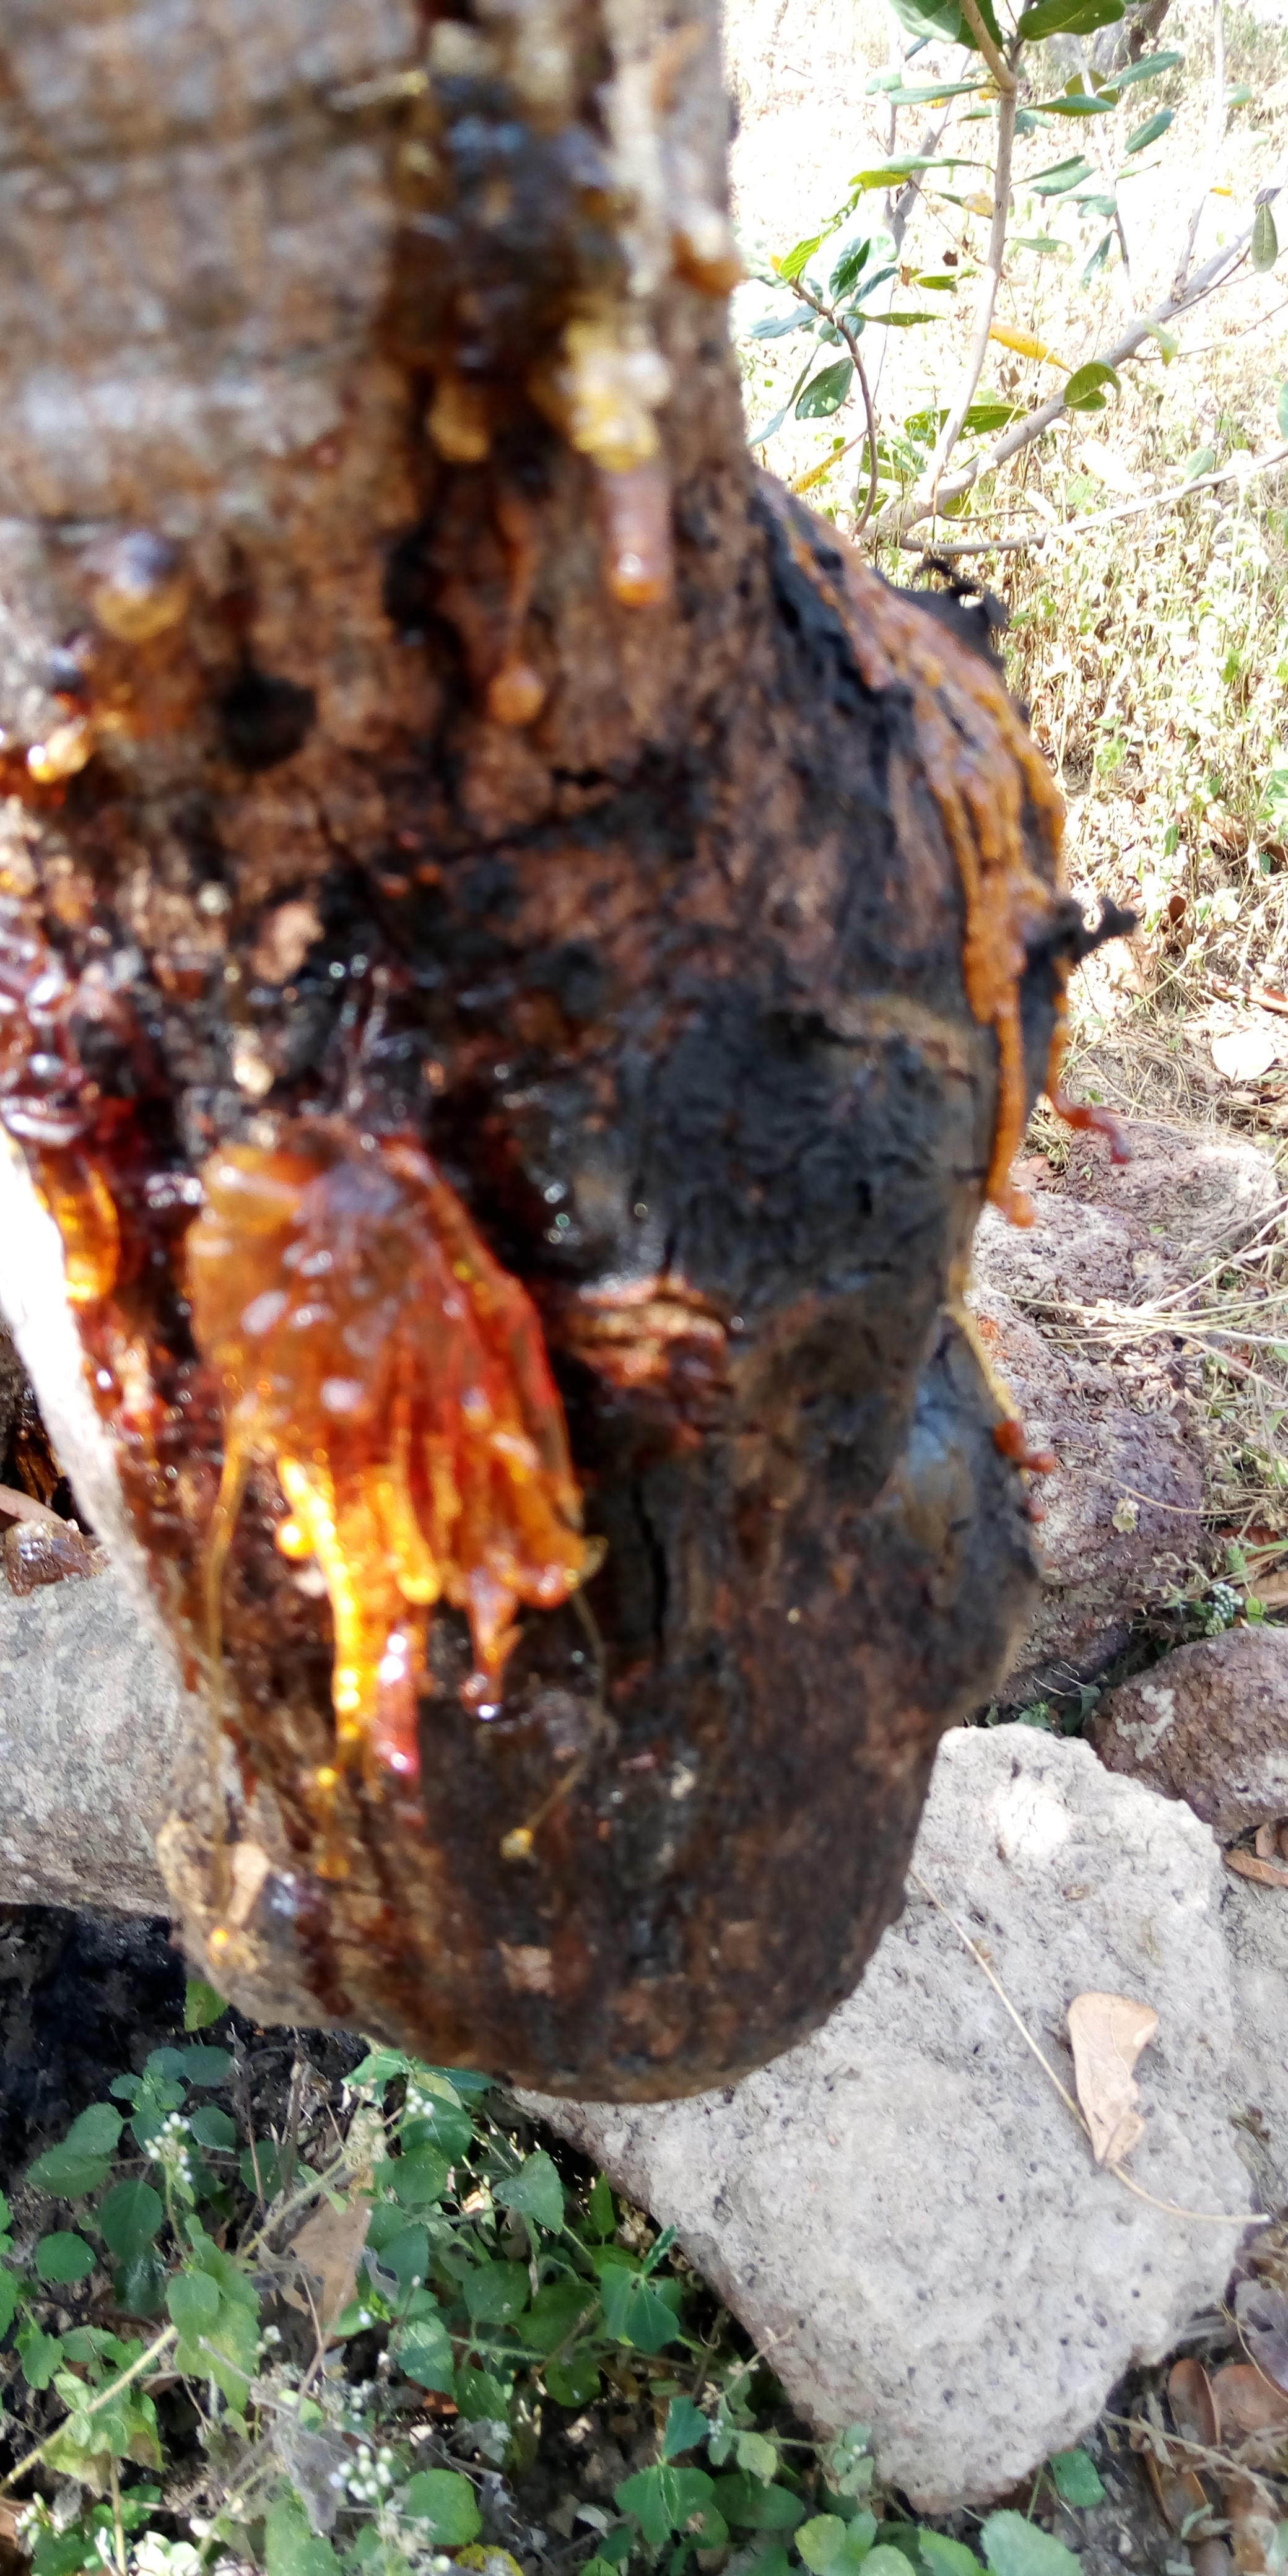Gommose: (8, 565, 1023, 2093)
